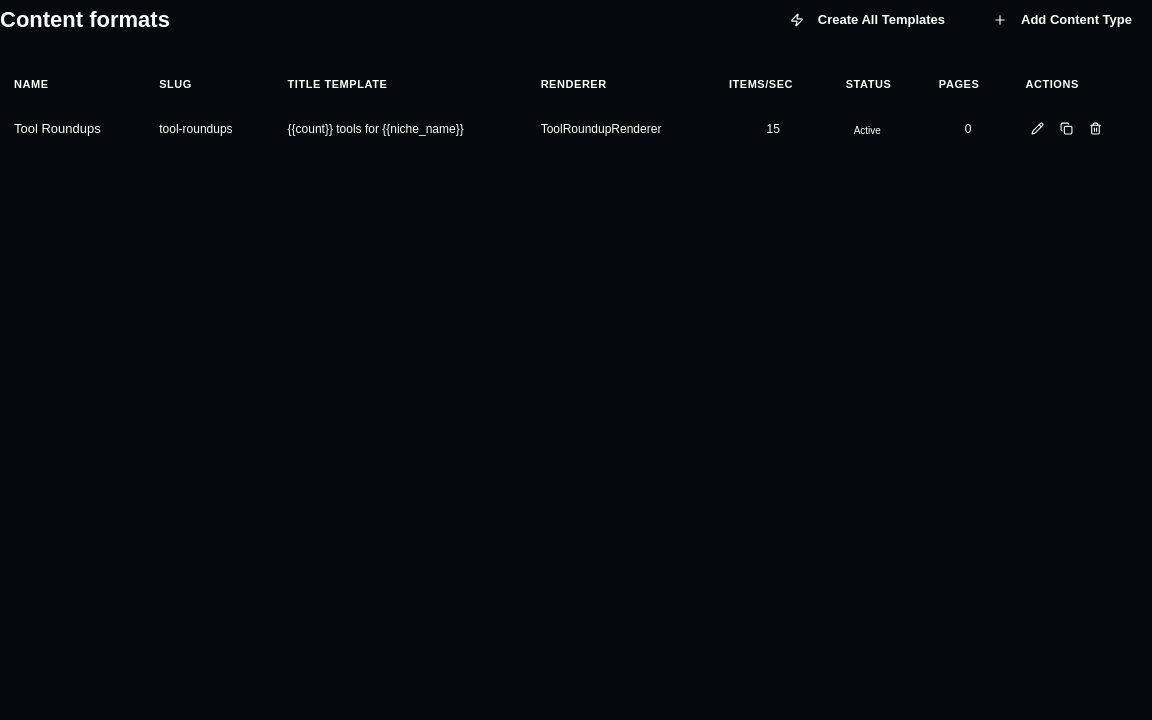
ContentTypesManager delete › refuses to delete a format that pages use and offers Deactivate instead
Later steps or results of the test are not shown.
Click the button named "Delete Tool Roundups" at point(1096, 128), box [1084,116,1108,141]
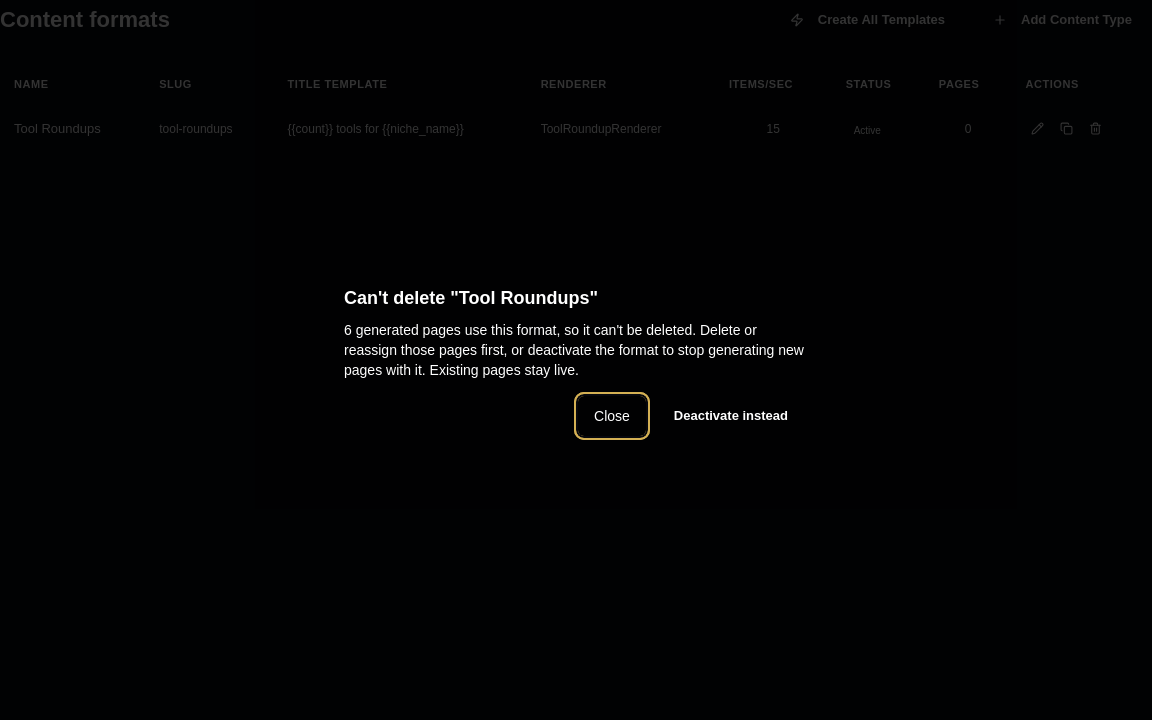
Expected: the text "6 generated pages use this format" is shown, [344,322,804,378]
